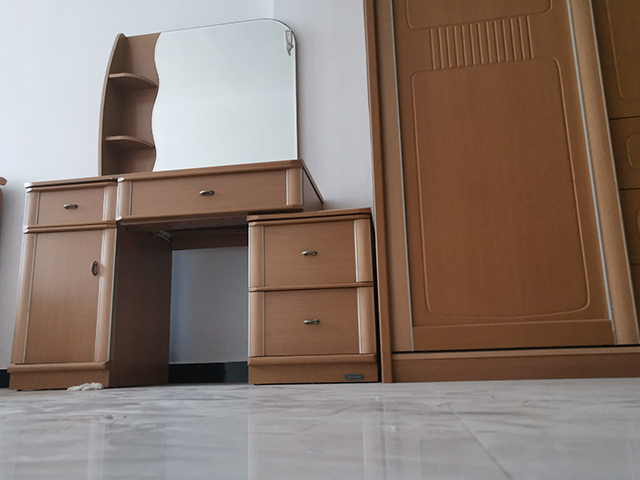cabinet: (5, 156, 377, 393)
